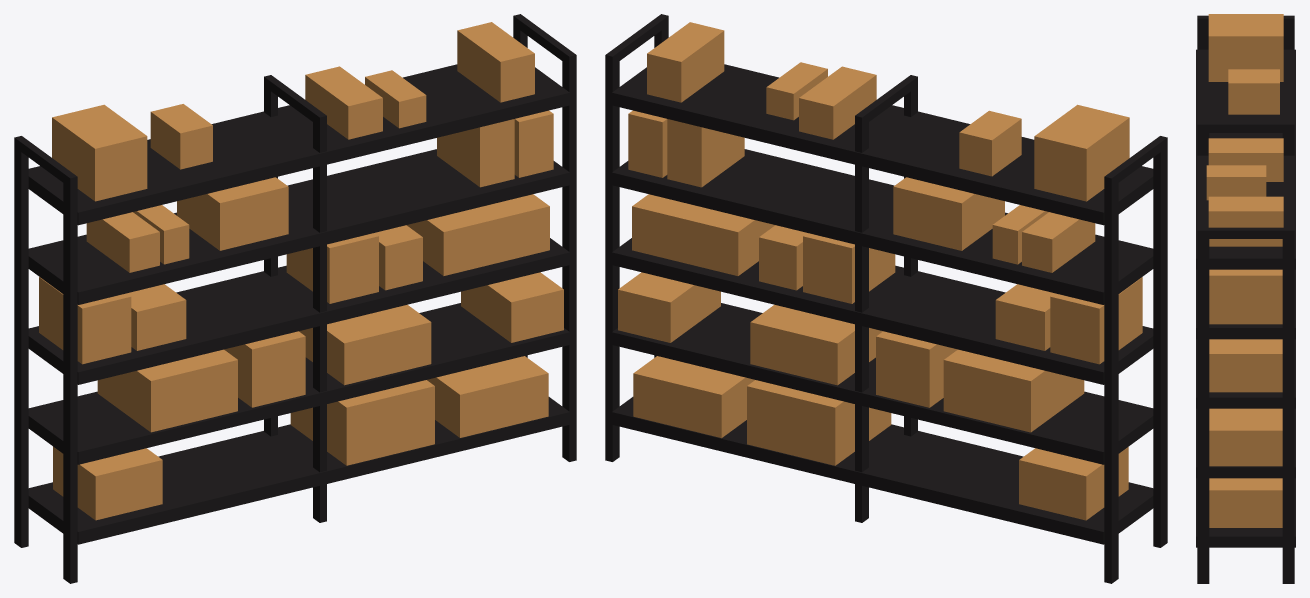
Rendered from Shelves_Double.fbx.
The picture shows the model from 3 angles, left to right: view 1: azimuth 30°, elevation 25°; view 2: azimuth 150°, elevation 25°; view 3: azimuth 270°, elevation 25°; orthographic projection. The views are drawn at different scales.
Parts seen in each view (by area): view 1: Double; view 2: Double; view 3: Double.
Boxes of the visible parts, box(x1,y1,x2,y2) form: Double: box(14, 14, 576, 583); Double: box(605, 14, 1167, 583); Double: box(1196, 14, 1295, 583).
Bounding box in the file's own units: 209 × 167 × 41.
